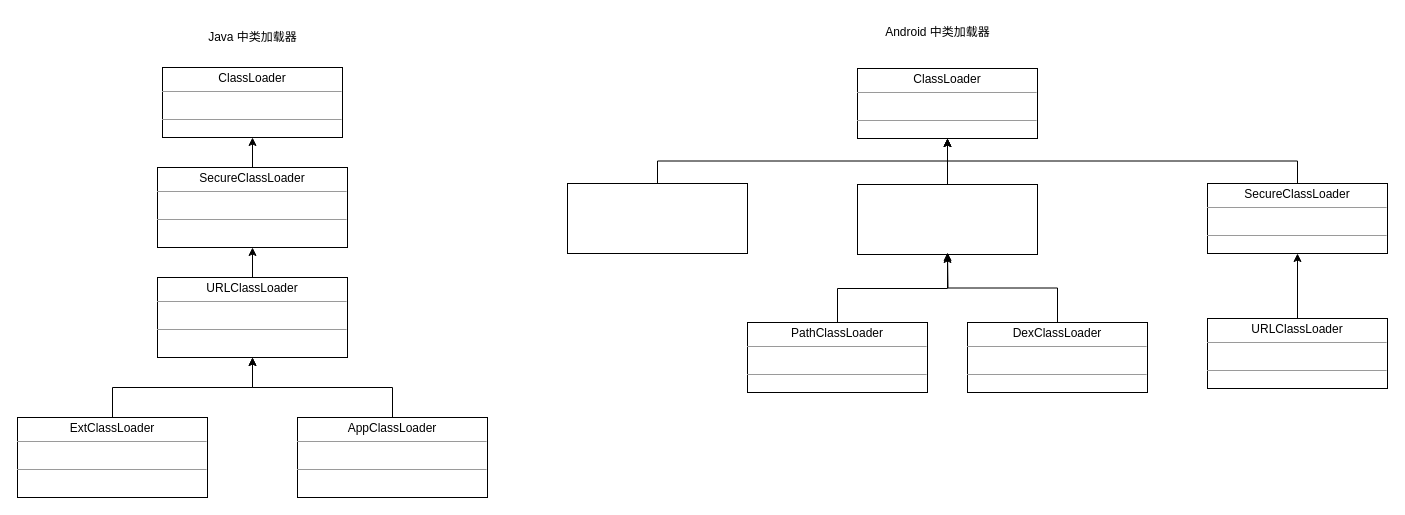
This 1405x515 diagram has some shape labels left out. Each missing label, with the centre of its shape:
BaseDexClassLoader: (947,219)
BootClassLoader: (657,218)
